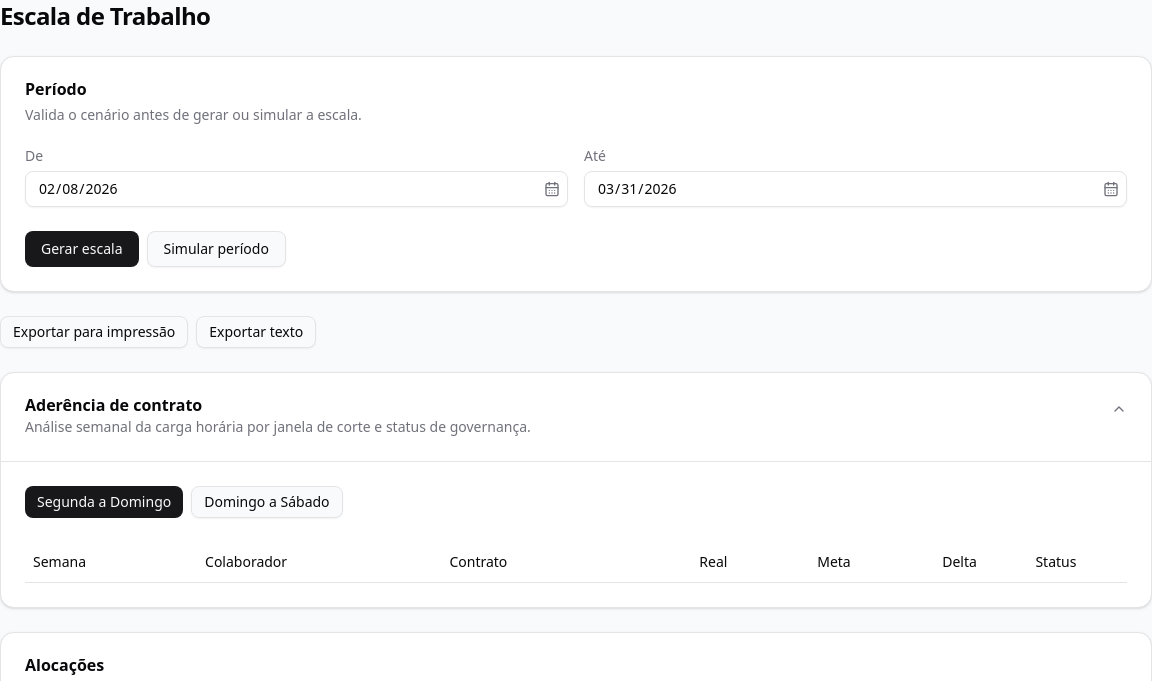
Test: EscalaPage › bloqueia visualmente quando há LOGIC_HARD no preflight
Click the button "Gerar escala" at (82, 249), box [25,231,138,267]
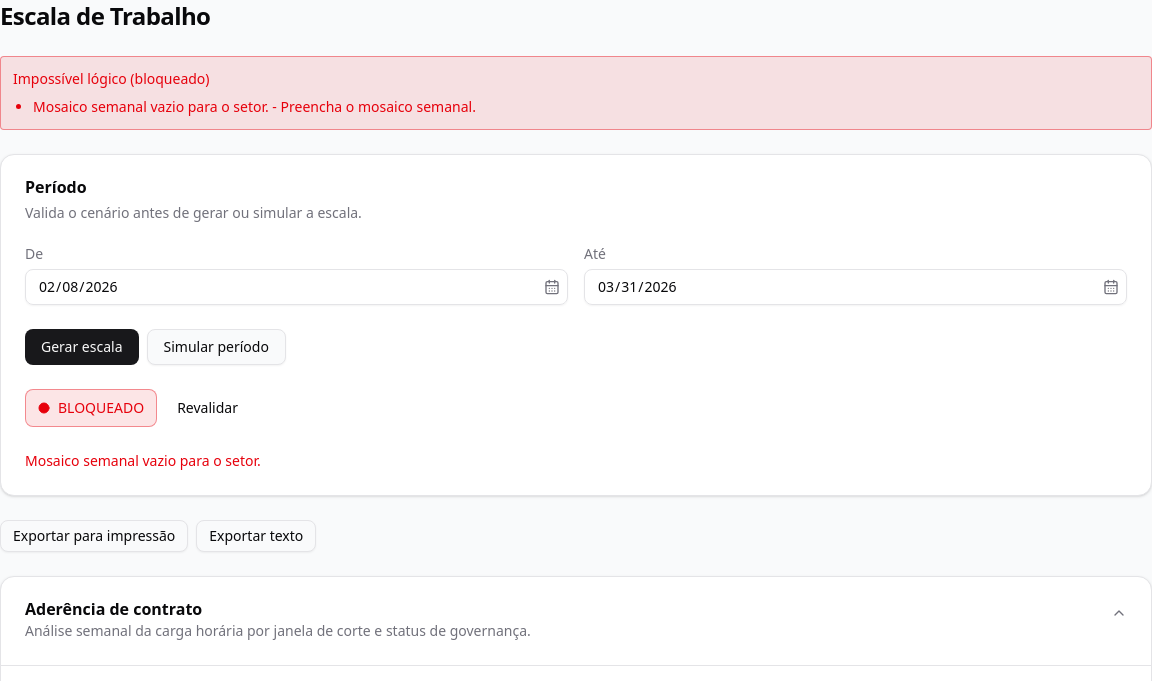
Check: the text "Impossível lógico (bloqueado)" is shown, box [13,69,210,88]
